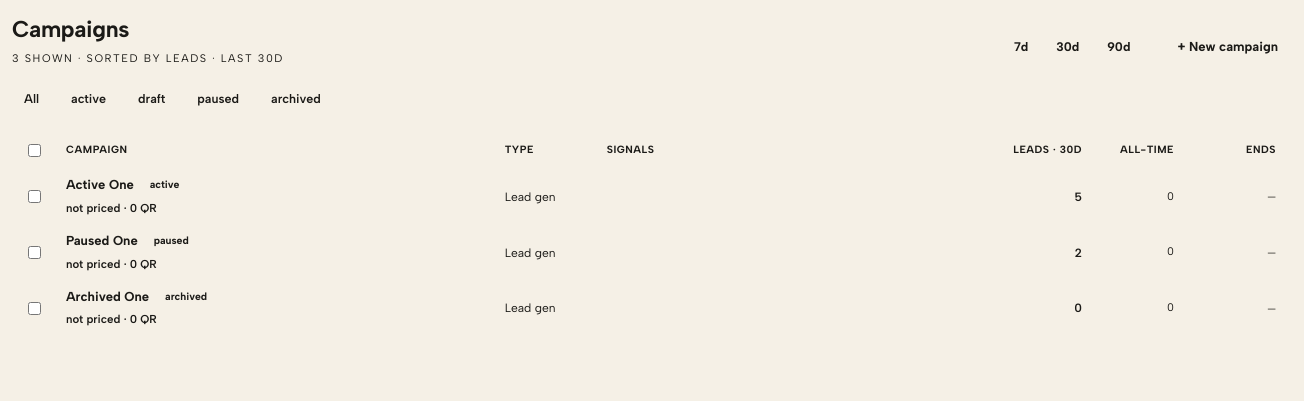
Test case: AdminV2Campaigns — bulk actions › checkbox selects without navigating; bulk bar appears with eligibility counts
Click the checkbox named "Select Active One": (34, 197) [28,190,41,203]
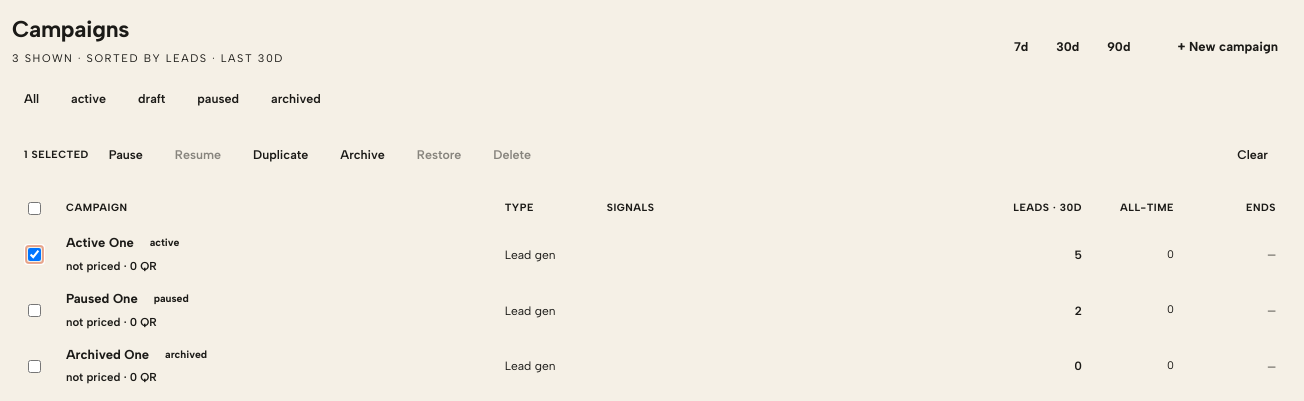
Expected: the element with test id "bulk-bar" shows "1 selected", [12,131,1292,179]
Expected: the button "Pause" is enabled, [97,139,155,171]
Expected: the button "Resume" is disabled, [163,139,233,171]
